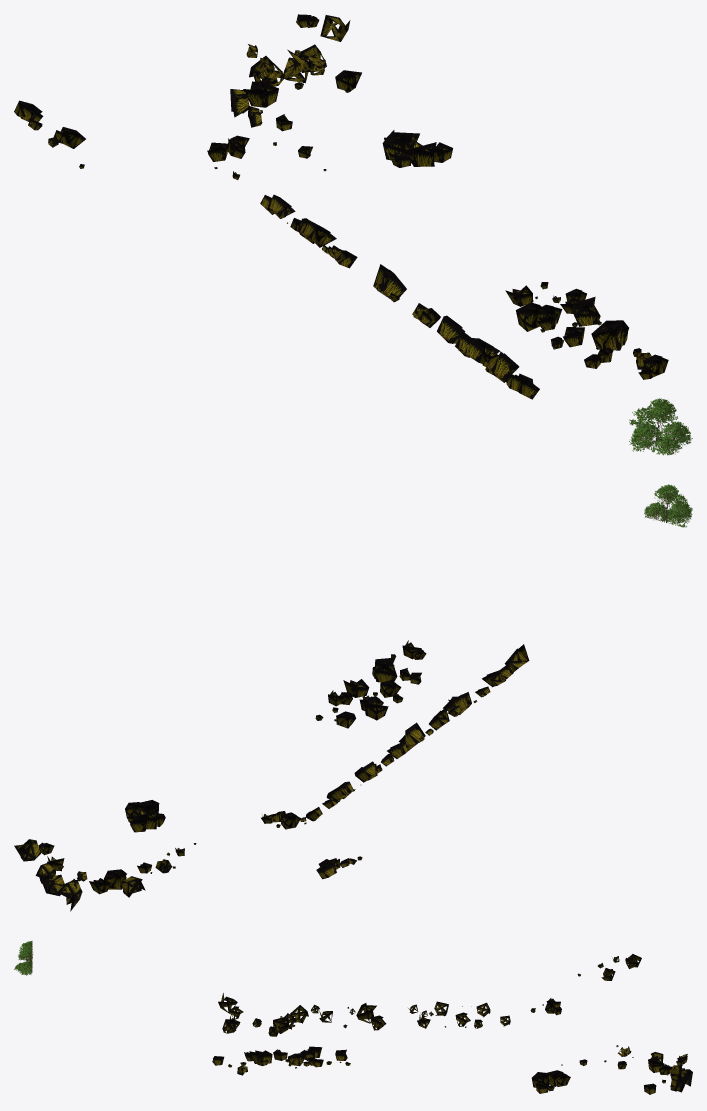
3 views of the same model, one above another, from view 1: azimuth 30°, elevation 25°; view 2: azimuth 150°, elevation 25°; view 3: azimuth 270°, elevation 25° (orthographic). The views are drawn at different scales.
Visible parts, largest first — view 1: Low Poly Stylized 2D Grass.3335, Low Poly Stylized 2D Grass.2284, oak 01.001_trunk_Mat.001_0.273; view 2: Low Poly Stylized 2D Grass.2284, Low Poly Stylized 2D Grass.3335, oak 01.001_trunk_Mat.001_0.273; view 3: Low Poly Stylized 2D Grass.3335, Low Poly Stylized 2D Grass.2284, oak 01.001_trunk_Mat.001_0.273.
Part boxes in pixels (x1=…): Low Poly Stylized 2D Grass.3335: x1=302, y1=220, x2=668, y2=399; Low Poly Stylized 2D Grass.2284: x1=14, y1=14, x2=452, y2=243; oak 01.001_trunk_Mat.001_0.273: x1=629, y1=398, x2=692, y2=455; Low Poly Stylized 2D Grass.2284: x1=14, y1=781, x2=362, y2=911; Low Poly Stylized 2D Grass.3335: x1=315, y1=640, x2=529, y2=791; oak 01.001_trunk_Mat.001_0.273: x1=644, y1=484, x2=692, y2=527; Low Poly Stylized 2D Grass.3335: x1=212, y1=993, x2=448, y2=1075; Low Poly Stylized 2D Grass.2284: x1=455, y1=954, x2=692, y2=1094; oak 01.001_trunk_Mat.001_0.273: x1=14, y1=940, x2=33, y2=975.
Bounding box in the file's own units: 25.09 × 10.54 × 69.38.
3 materials, 2 textured.
